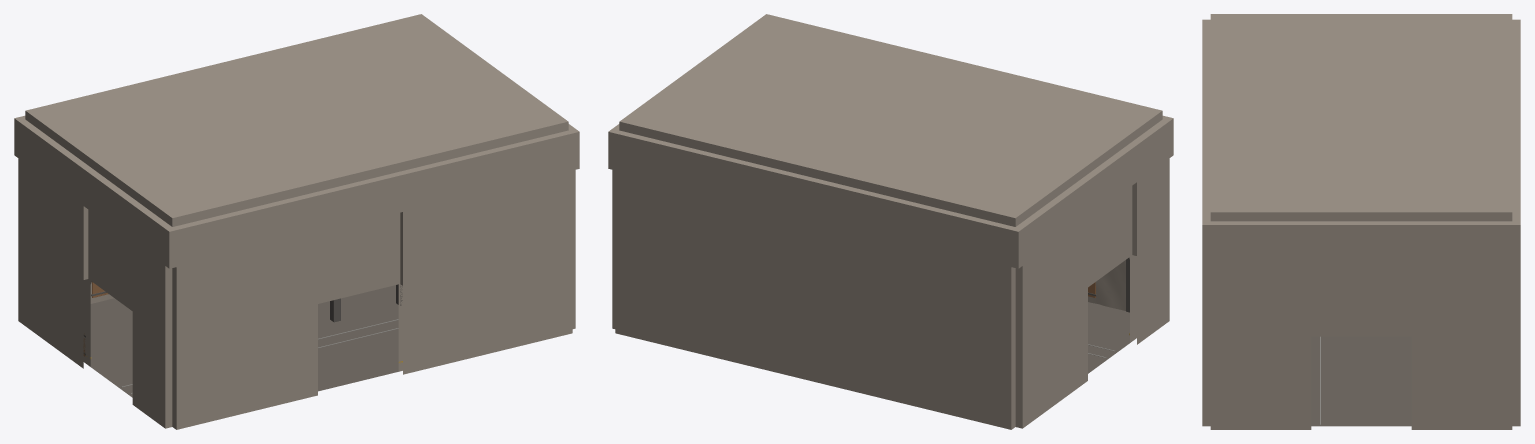
Rendered from environment.glb.
3 renders of one model, left to right at view 1: azimuth 30°, elevation 25°; view 2: azimuth 150°, elevation 25°; view 3: azimuth 270°, elevation 25°, orthographic. The views are drawn at different scales.
Visible parts, largest first — view 1: pit-gallery authored environment; view 2: pit-gallery authored environment; view 3: pit-gallery authored environment.
Part boxes in pixels (x1,y1,x2,y2): pit-gallery authored environment: [14, 14, 579, 429]; pit-gallery authored environment: [608, 14, 1173, 429]; pit-gallery authored environment: [1202, 14, 1520, 429].
Bounding box in the file's own units: 29 × 14.1 × 19.
